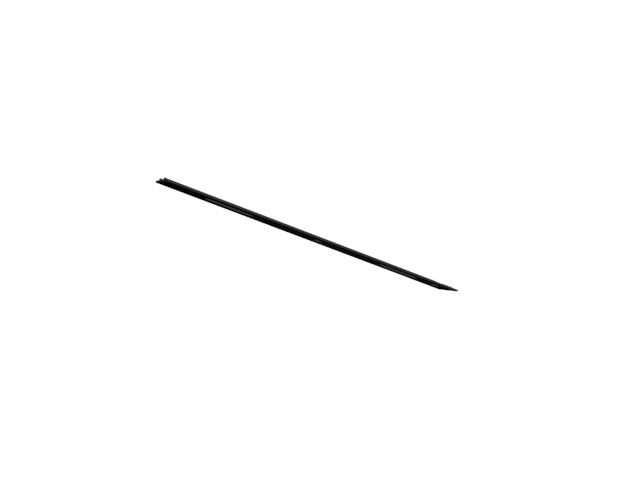ruler: (153, 177, 464, 296)
